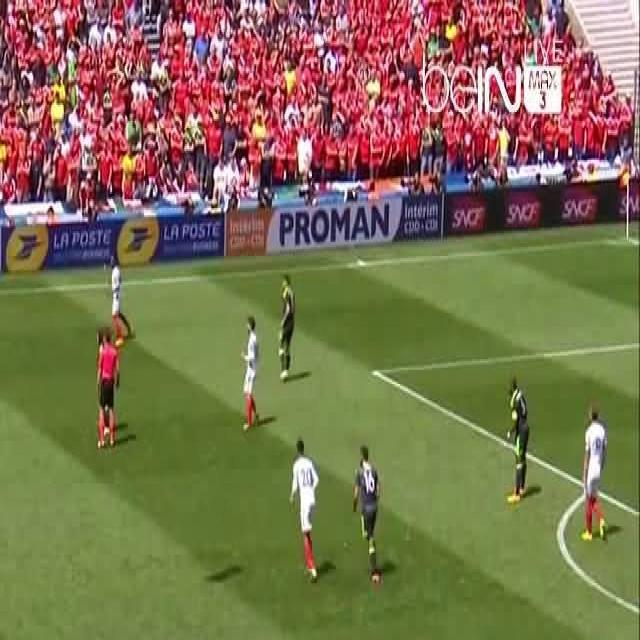player-white: (290, 441, 319, 581), (578, 407, 608, 541), (353, 444, 381, 582), (506, 378, 532, 502), (96, 333, 120, 448), (94, 327, 116, 439), (109, 254, 133, 346), (241, 315, 259, 429), (279, 274, 295, 382)
